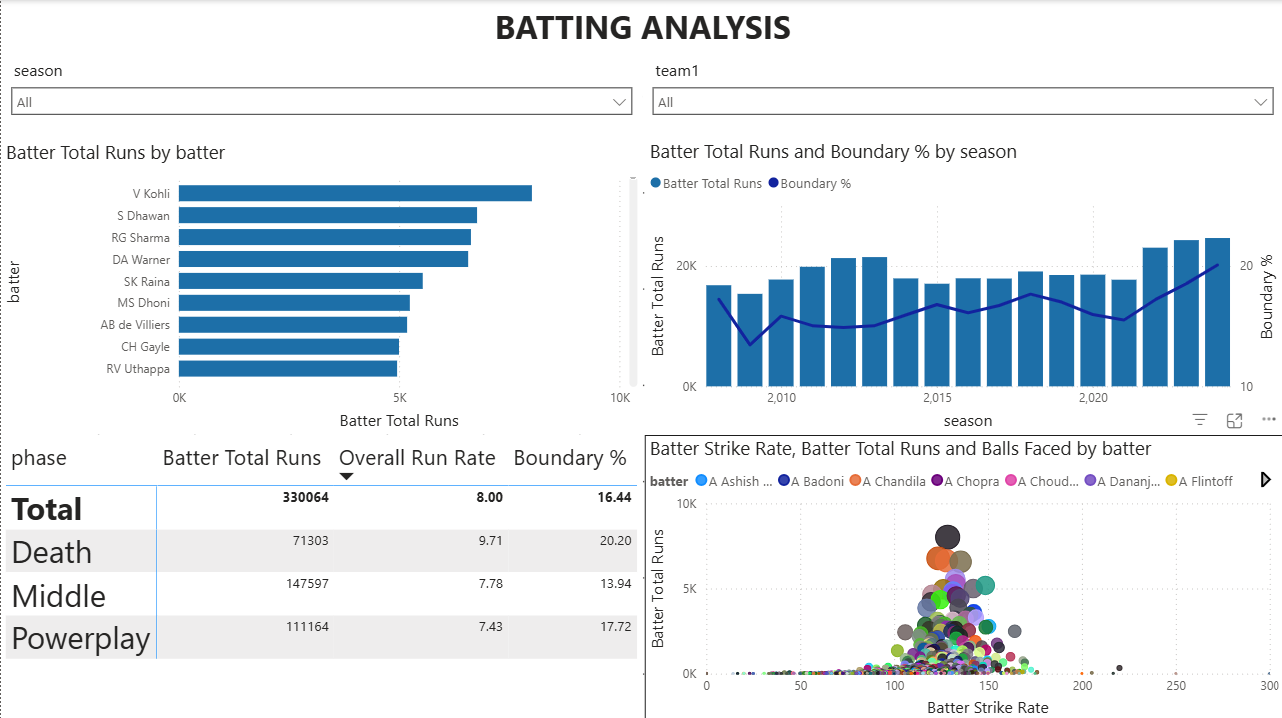

This screenshot's page, from the dashboard's own definition file:
{"tool":"powerbi","page":{"name":"Page 2","canvas":[1280,720],"ordinal":1},"visuals":[{"type":"textbox","box":[0,0,1280.4,53.6],"z":0},{"type":"slicer","fields":{"Values":["deliveries.season"]},"box":[0,53.1,639.4,84],"z":1000},{"type":"slicer","fields":{"Values":["matches.team1"]},"box":[639.4,53.1,639.4,84],"z":2000},{"type":"clusteredBarChart","fields":{"Category":["deliveries.batter"],"Y":["batsman_stats.Batter Total Runs"]},"box":[0,138.2,640,295.3],"z":3000},{"type":"lineClusteredColumnComboChart","fields":{"Category":["deliveries.season"],"Y":["batsman_stats.Batter Total Runs"],"Y2":["batsman_stats.Boundary %"]},"box":[641.5,136.7,638.5,296.7],"z":4000},{"type":"pivotTable","fields":{"Rows":["deliveries.phase"],"Values":["batsman_stats.Batter Total Runs","batsman_stats.Overall Run Rate","batsman_stats.Boundary %"]},"box":[0,433.5,640,286.5],"z":5000},{"type":"scatterChart","fields":{"X":["batsman_stats.Batter Strike Rate"],"Y":["batsman_stats.Batter Total Runs"],"Size":["batsman_stats.Balls Faced"],"Series":["deliveries.batter"]},"box":[641.5,433.5,638.5,286.5],"z":6000}]}

Visuals, with their boxes in screenshot pixels (x1, y1, x2, y2), scaled from the page's 1280x720 canvas onto the 1282x718 screenshot:
textbox: (0,0,1281,53)
slicer - deliveries.season: (0,53,640,137)
slicer - matches.team1: (640,53,1281,137)
clusteredBarChart - deliveries.batter x batsman_stats.Batter Total Runs: (0,138,641,432)
lineClusteredColumnComboChart - deliveries.season x batsman_stats.Batter Total Runs: (643,136,1281,432)
pivotTable - deliveries.phase x batsman_stats.Batter Total Runs: (0,432,641,717)
scatterChart - batsman_stats.Batter Strike Rate x batsman_stats.Batter Total Runs: (643,432,1281,717)
